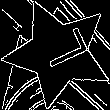L_SW: (29, 28, 88, 78)
